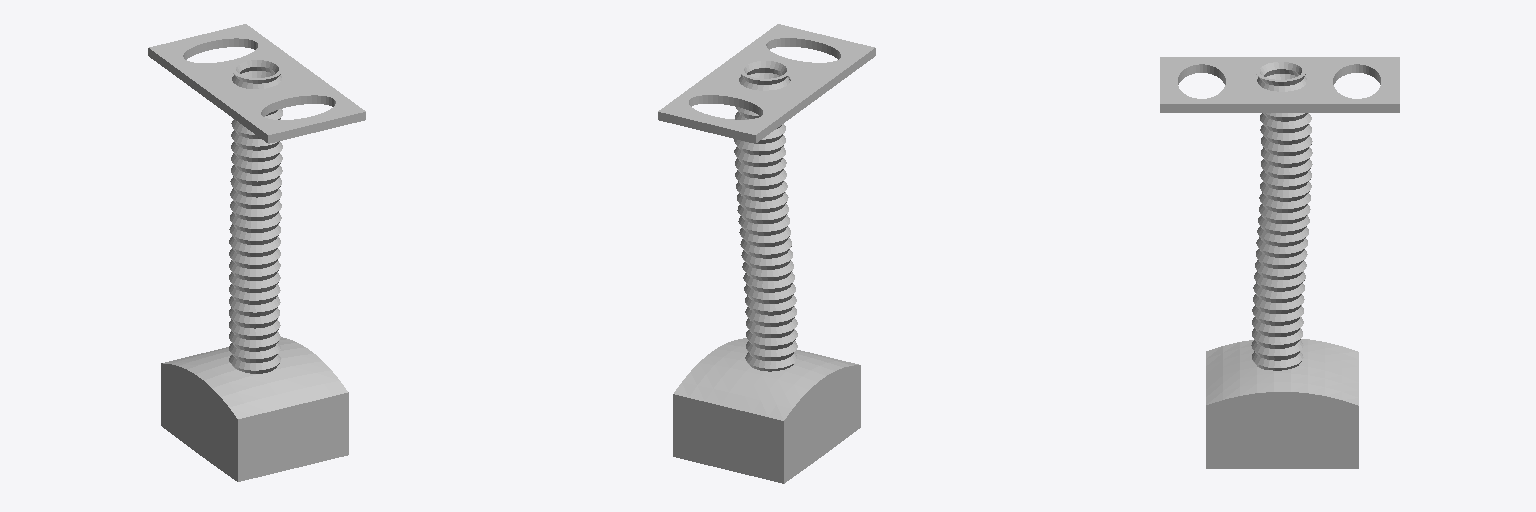
Rendered from tuba.obj.
3 views of the same model, side by side, from view 1: azimuth 30°, elevation 25°; view 2: azimuth 150°, elevation 25°; view 3: azimuth 270°, elevation 25° (orthographic).
Parts seen in each view (by area): view 1: Tube001; view 2: Tube001; view 3: Tube001.
Part boxes in pixels (x1,y1,x2,y2): Tube001: (148,24,365,481); Tube001: (658,24,875,483); Tube001: (1160,57,1399,468).
Bounding box in the file's own units: 36.39 × 117 × 68.25.